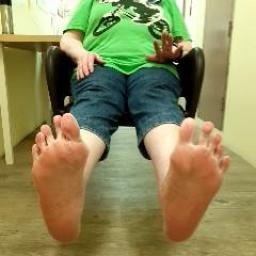Plantar View -Both Feet-: (14, 93, 242, 255)
